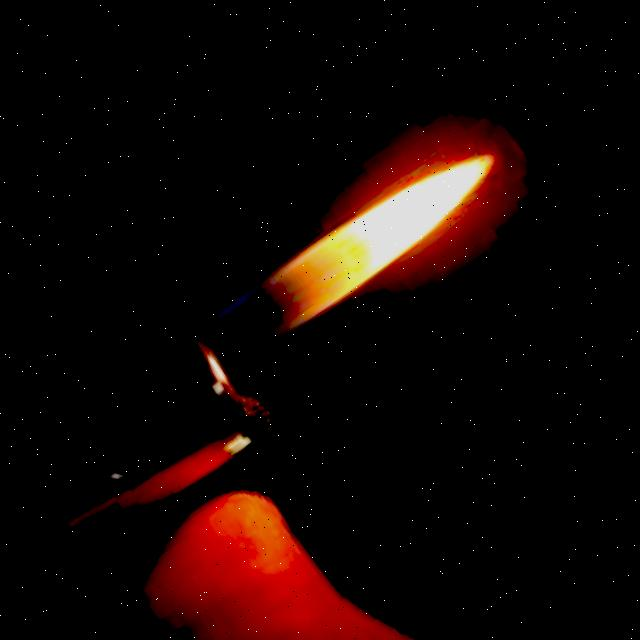Fire: (182, 82, 543, 415)
